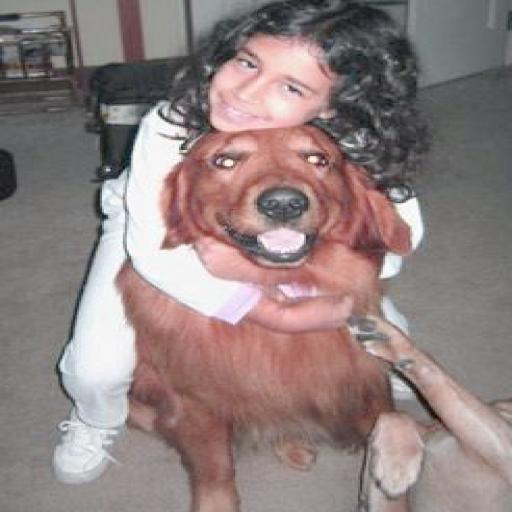dog_face: (155, 134, 392, 260)
